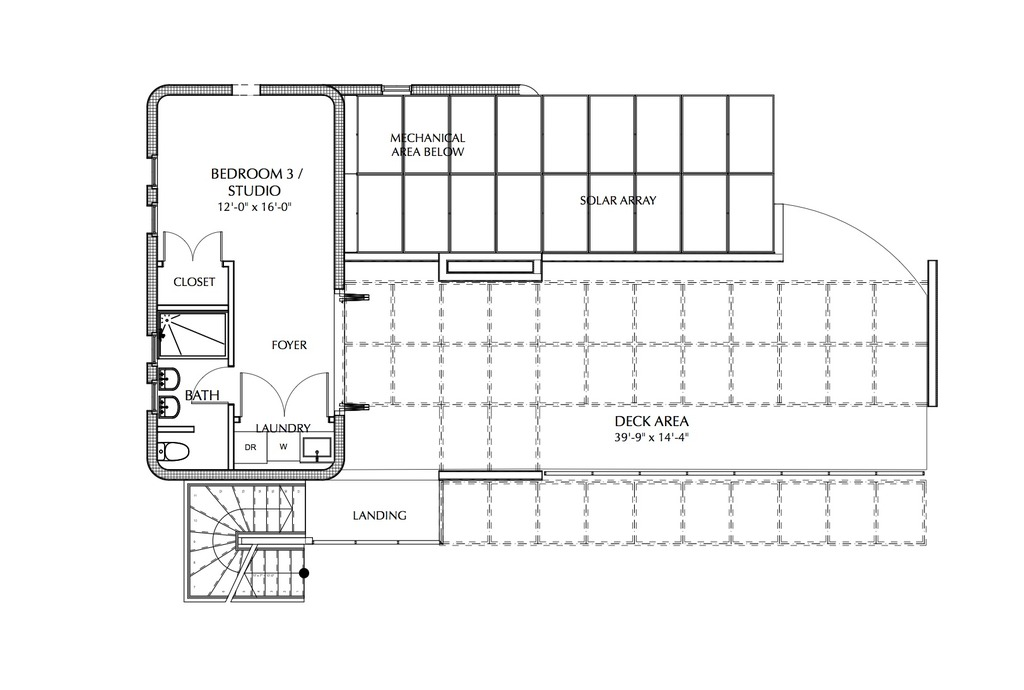door: (239, 371, 331, 417), (160, 231, 231, 264)
large_sink: (155, 438, 191, 467)
small_sink: (158, 360, 180, 390), (155, 395, 179, 420)
stairs: (189, 482, 309, 603)
windows: (377, 83, 412, 95)
